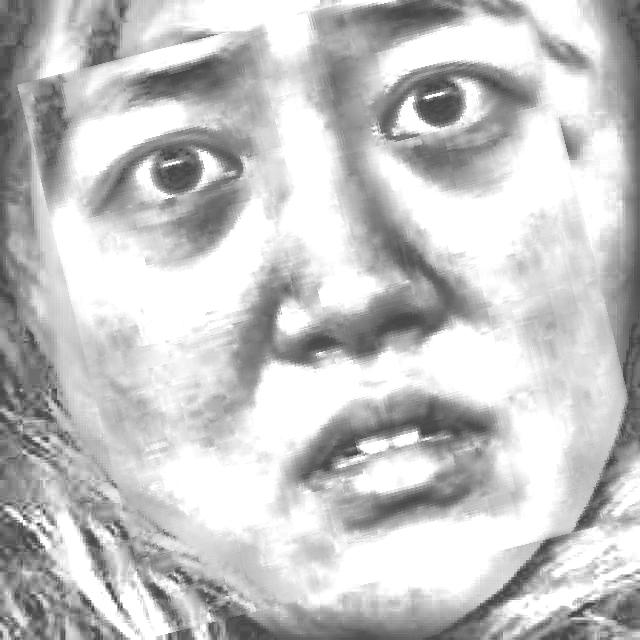fear: (47, 0, 626, 609)
